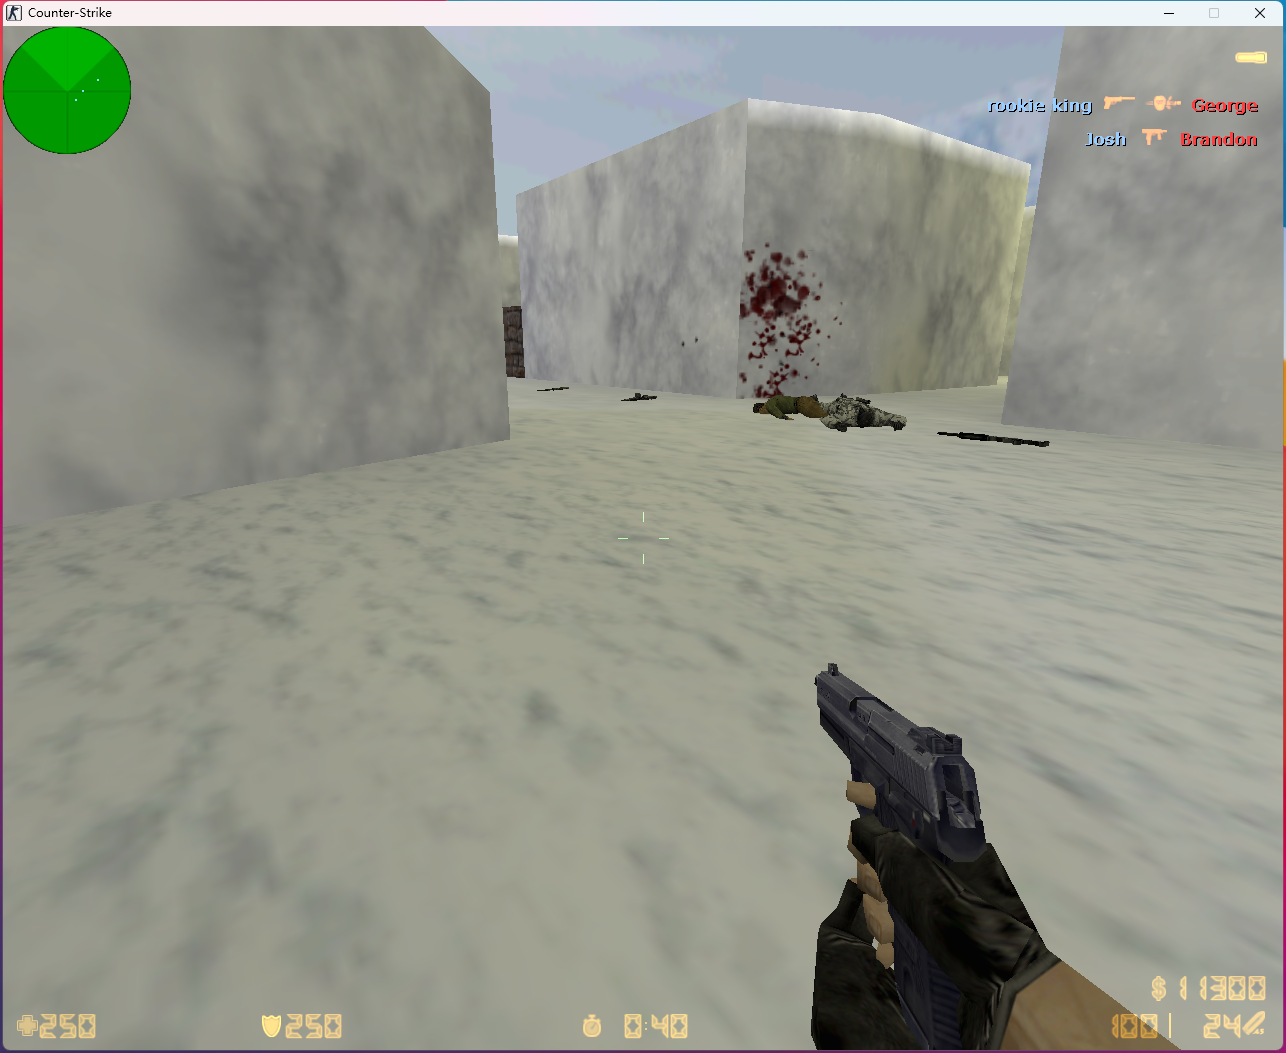dead: (819, 395, 907, 434), (749, 392, 827, 420)
weapon: (938, 429, 1049, 450), (531, 383, 571, 394), (618, 391, 659, 400)
